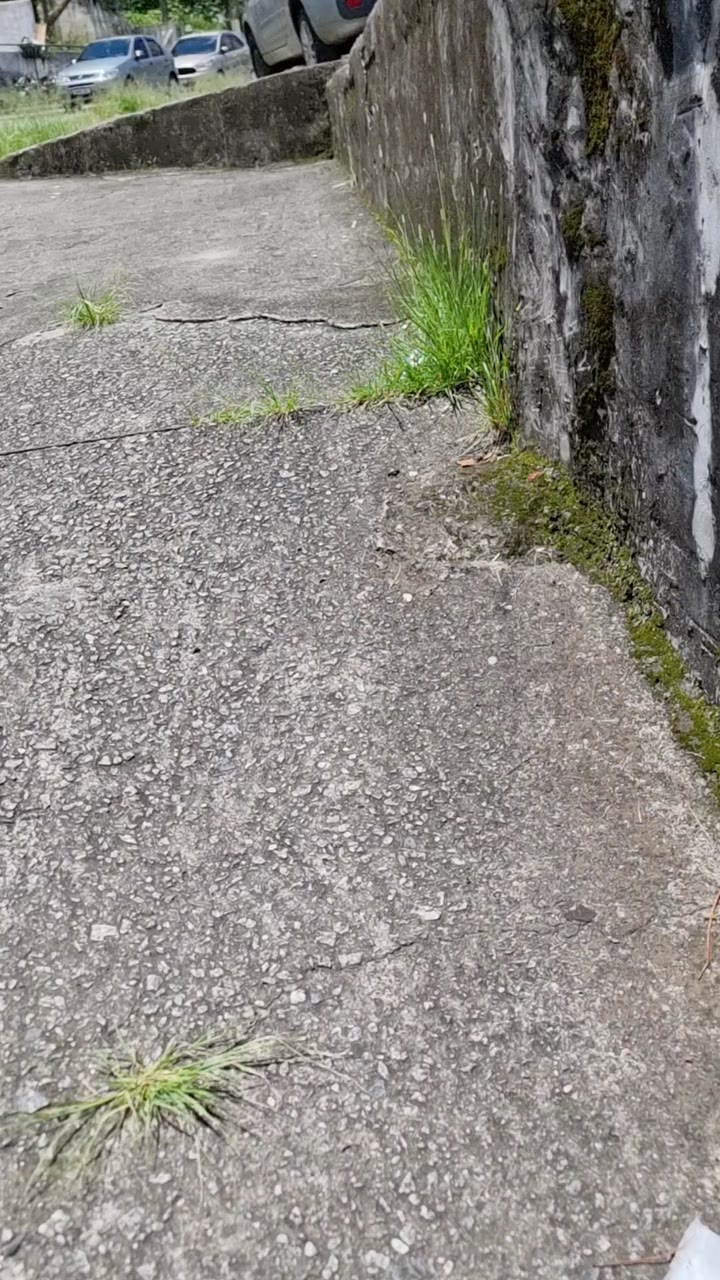desnivel: (0, 64, 338, 166)
